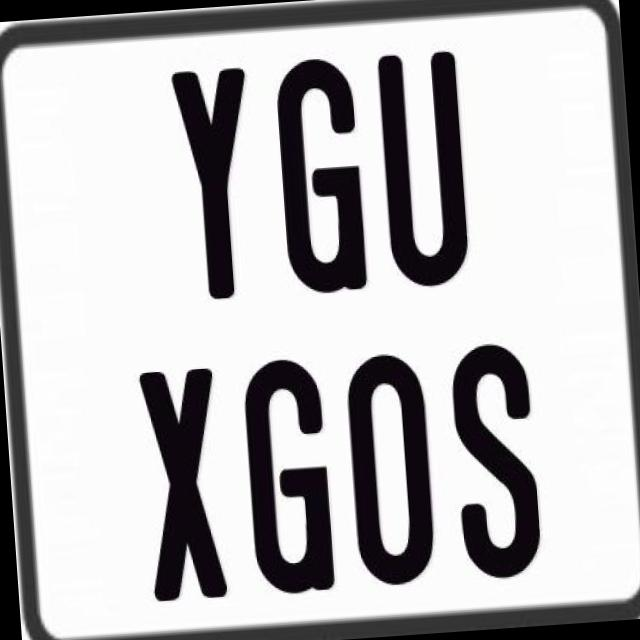0: (339, 348, 434, 585)
G: (240, 354, 342, 602), (274, 51, 374, 298)
S: (448, 337, 542, 581)
U: (372, 46, 474, 285)
X: (135, 368, 230, 604)
Y: (169, 66, 259, 306)
